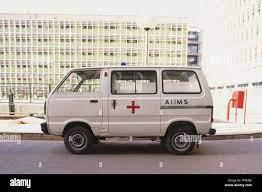Emergency-Vehicles: (36, 64, 212, 154)
